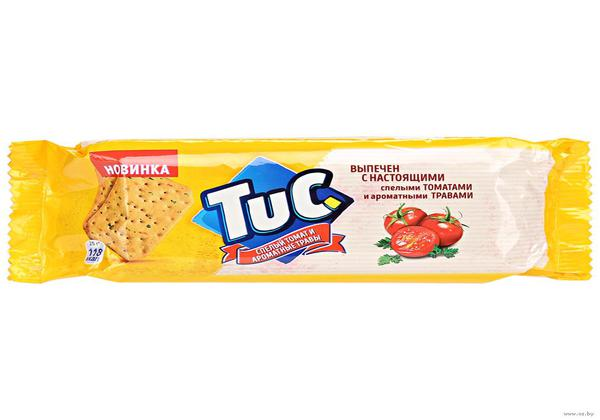crackers tuc: (67, 144, 543, 277)
